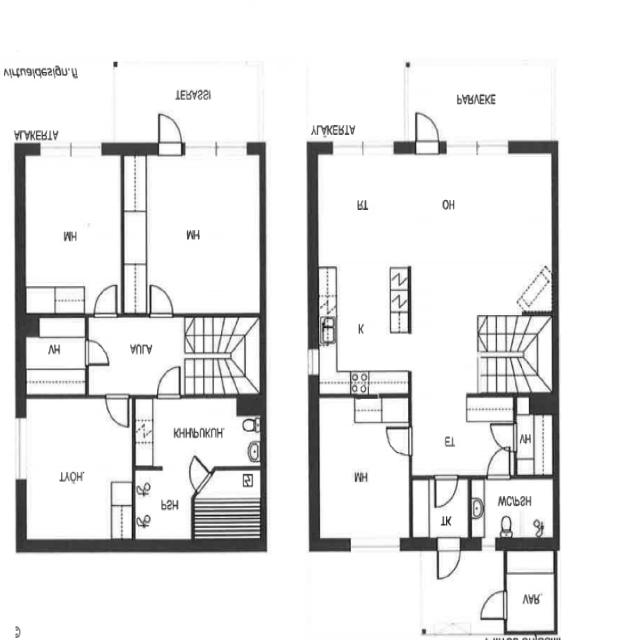door: (181, 457, 212, 494), (158, 114, 182, 154), (415, 114, 438, 154), (438, 540, 460, 580), (157, 367, 180, 400), (106, 395, 129, 428), (487, 447, 510, 480), (94, 286, 117, 318), (386, 428, 412, 456), (150, 286, 172, 318), (435, 475, 457, 507), (481, 592, 506, 620), (492, 425, 517, 452), (85, 341, 108, 366)
